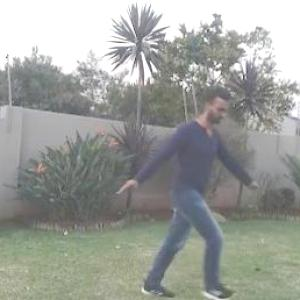land: (117, 79, 263, 299)
